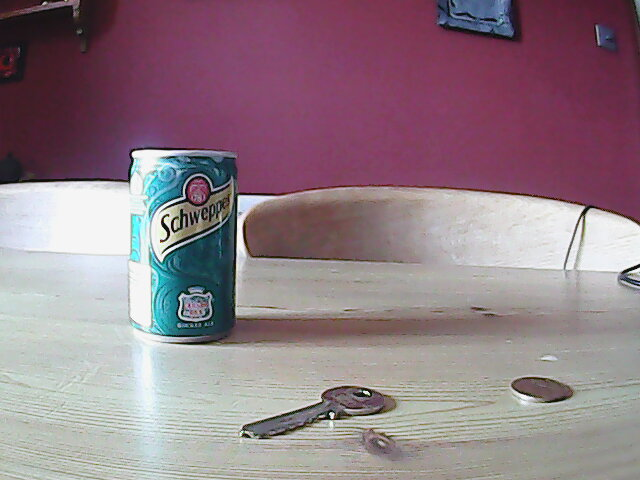Can: (122, 146, 244, 343)
Coin: (509, 372, 571, 407)
Key: (233, 382, 386, 443)
